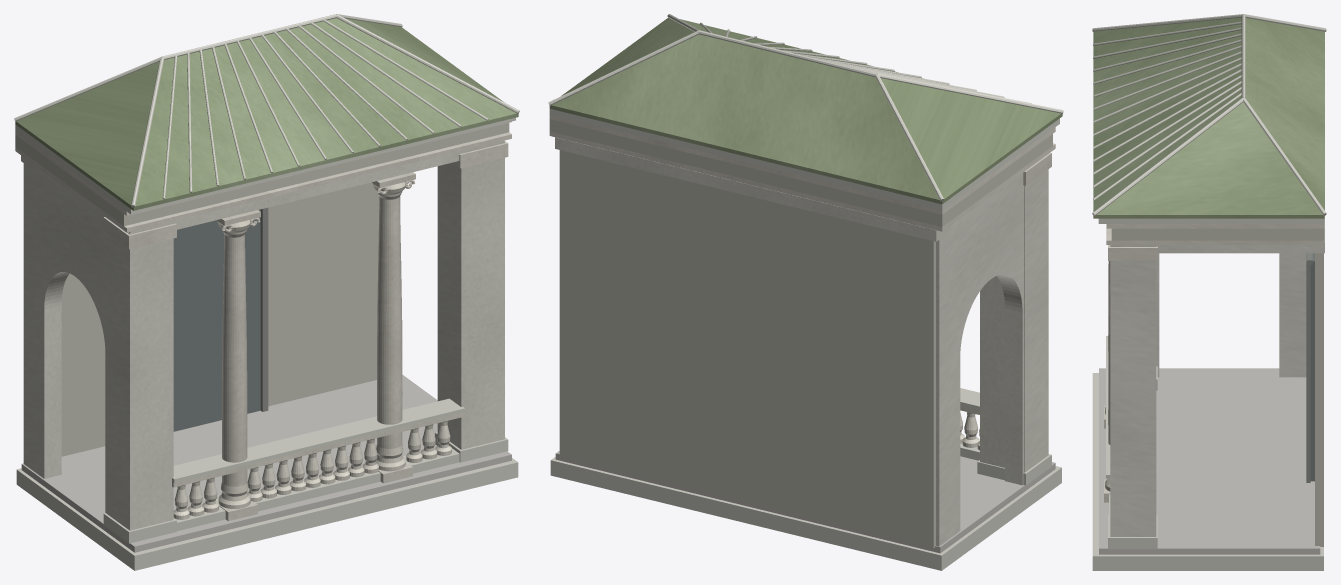
File: xingguo-no1-south-loggia-end-bay-near.glb
3 views of the same model, side by side, from view 1: azimuth 30°, elevation 25°; view 2: azimuth 150°, elevation 25°; view 3: azimuth 270°, elevation 25° (orthographic). The views are drawn at different scales.
Visible parts, largest first — view 1: 兴国宾馆一号楼南立面端部双柱敞廊; view 2: 兴国宾馆一号楼南立面端部双柱敞廊; view 3: 兴国宾馆一号楼南立面端部双柱敞廊.
Boxes of the visible parts, box(x1,y1,x2,y2) form: 兴国宾馆一号楼南立面端部双柱敞廊: box(14, 14, 519, 570); 兴国宾馆一号楼南立面端部双柱敞廊: box(548, 14, 1063, 570); 兴国宾馆一号楼南立面端部双柱敞廊: box(1092, 14, 1326, 570).
Size of the model in its own units: 4.86 by 5.17 by 2.59.
Materials: 8 (3 with a texture image).
